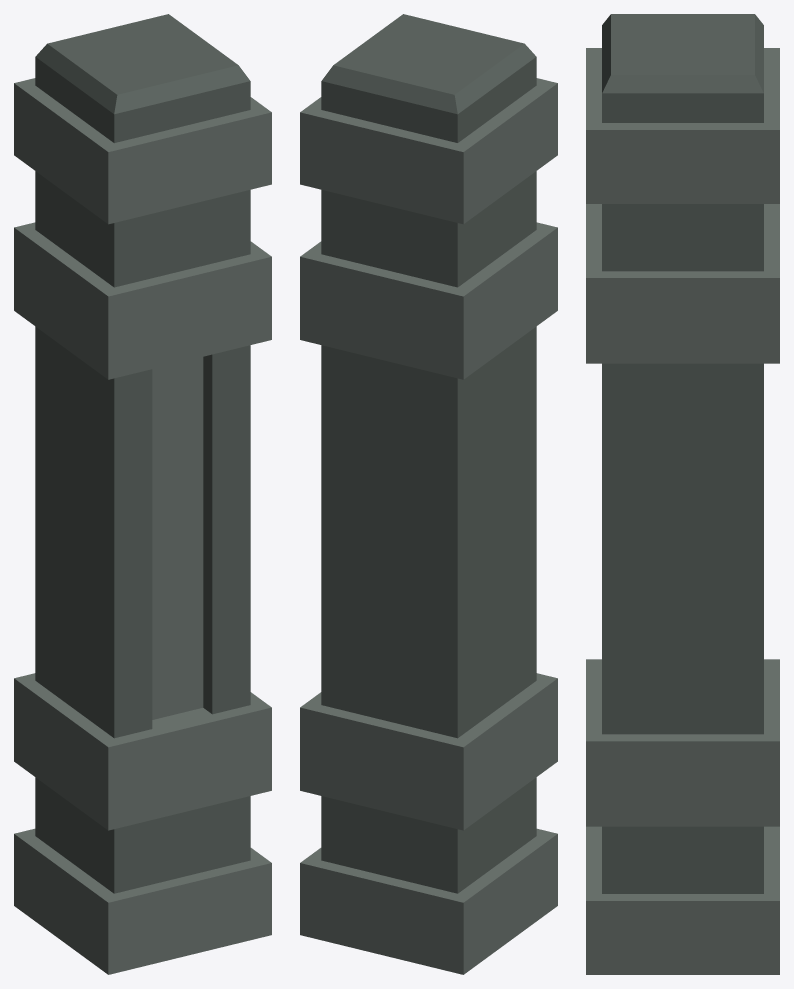
The model's file is pillarSquare.fbx.
The picture shows the model from 3 angles, left to right: view 1: azimuth 30°, elevation 25°; view 2: azimuth 150°, elevation 25°; view 3: azimuth 270°, elevation 25°; orthographic projection. The views are drawn at different scales.
Parts seen in each view (by area): view 1: pillarSquare; view 2: pillarSquare; view 3: pillarSquare.
Part boxes in pixels (box(x1,y1,x2,y2)): pillarSquare: box(14, 14, 271, 974); pillarSquare: box(300, 14, 557, 974); pillarSquare: box(586, 14, 779, 974).
Bounding box in the file's own units: 0.9279 × 4.7 × 0.9279.
